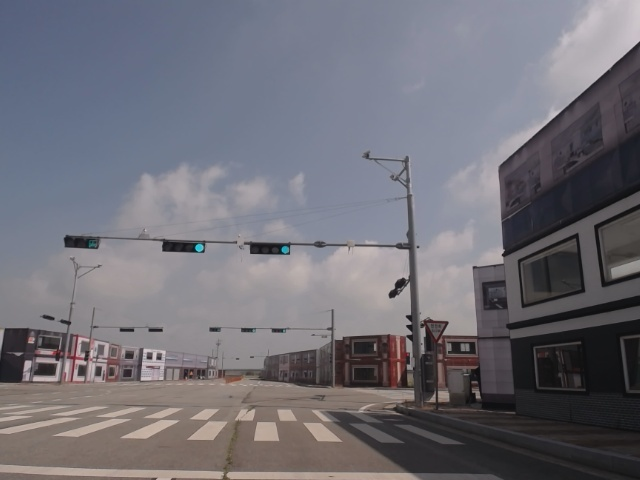straight_green_4: (249, 243, 292, 255), (164, 241, 204, 252)
